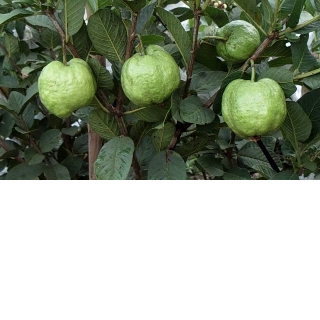oi: (216, 74, 291, 141), (37, 56, 102, 121), (119, 41, 180, 106), (213, 19, 263, 65)
